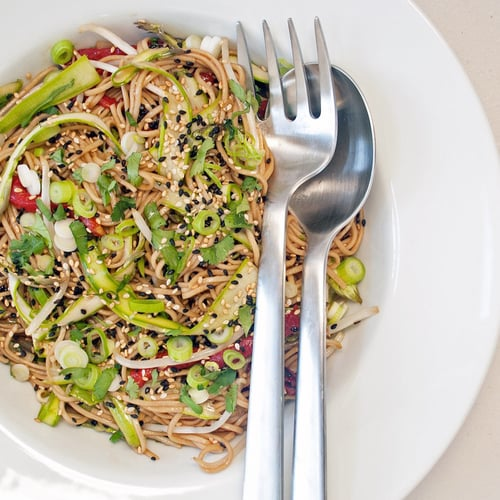Soba: (4, 36, 375, 460)
